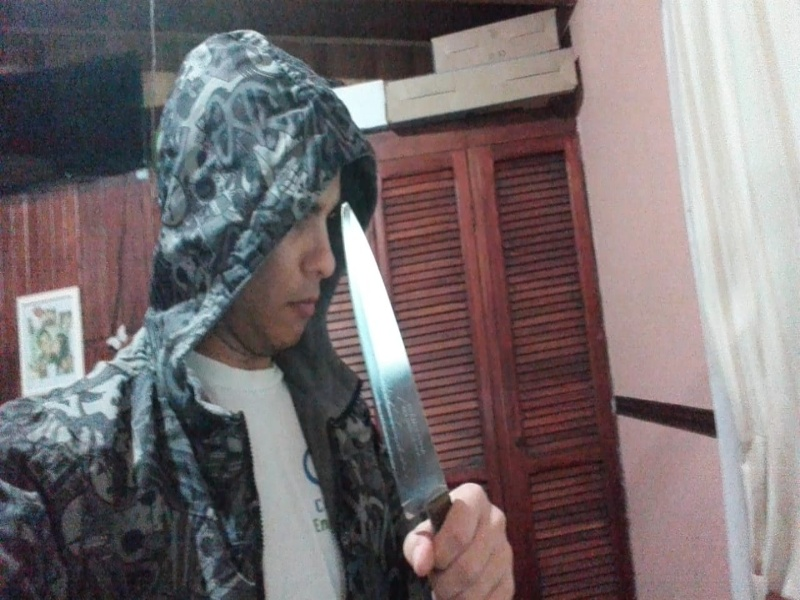bonnet: (151, 29, 379, 362)
hand: (401, 482, 517, 600)
knife: (340, 200, 454, 529)
person: (1, 29, 520, 600)
